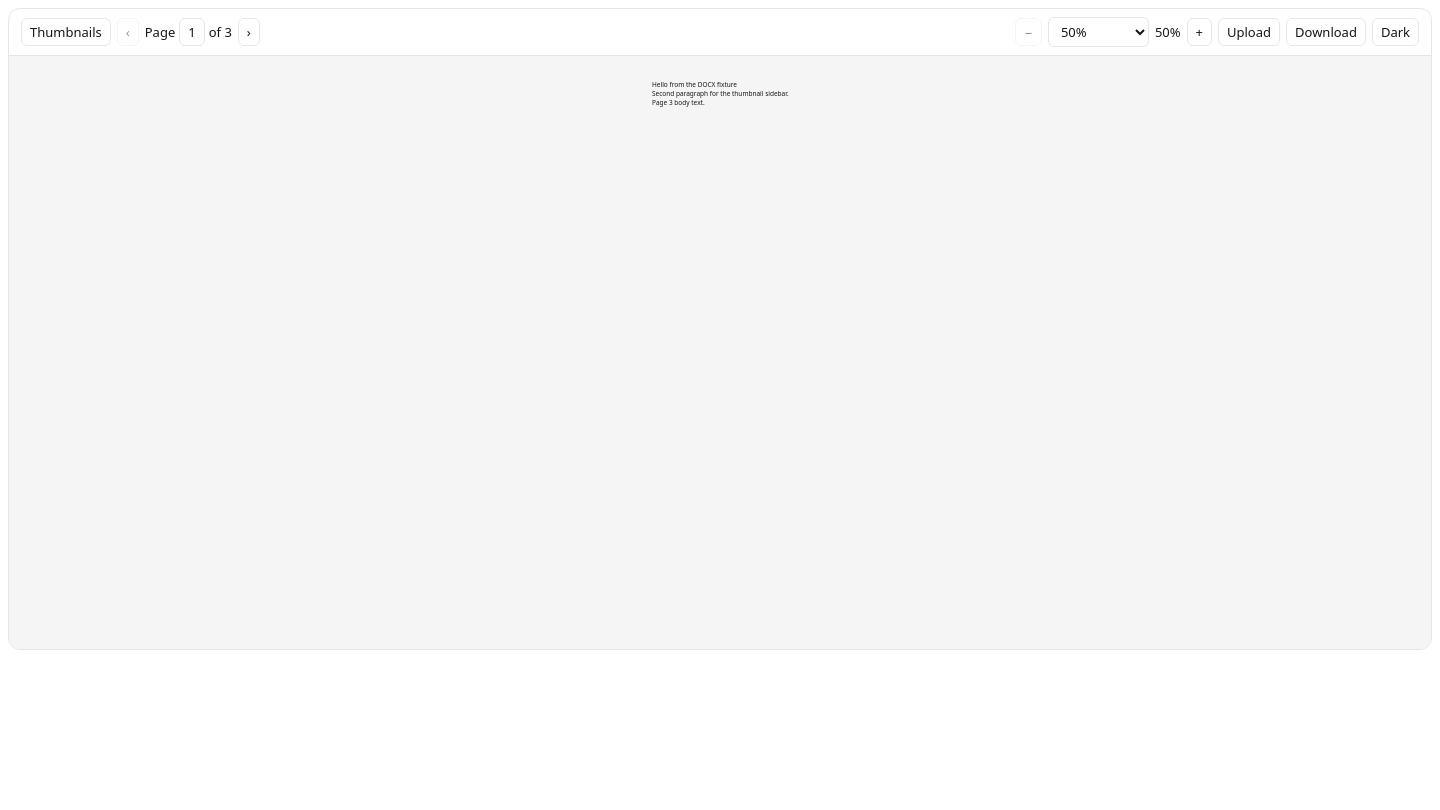
Test: DocxViewer › selects a page from the sidebar and marks it active
Step 1. Click the button with aria-label "Toggle thumbnails" → (66, 32), box [21,18,111,46]
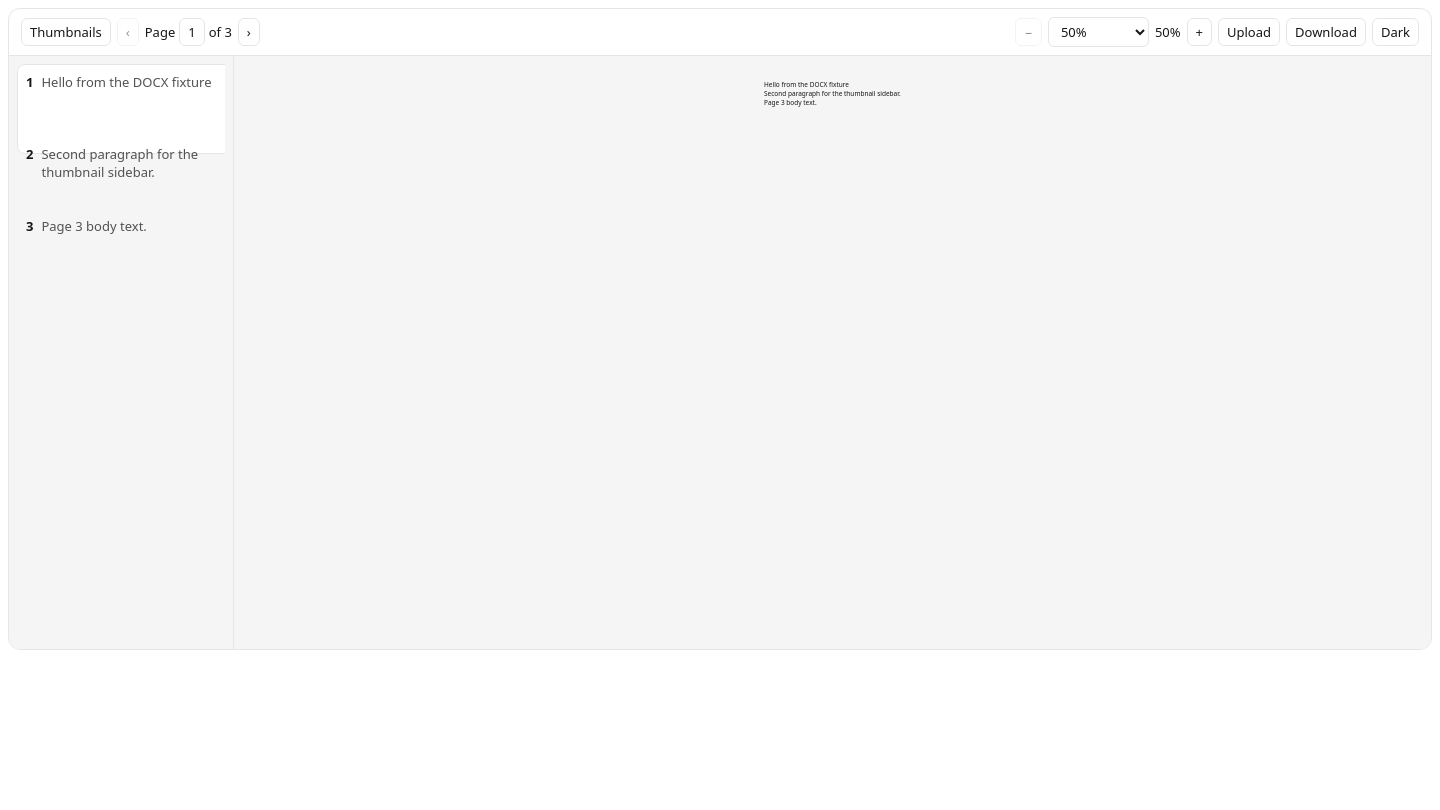
Step 2. Click the option with aria-label "Page 2" → (112, 163), box [26,145,198,181]
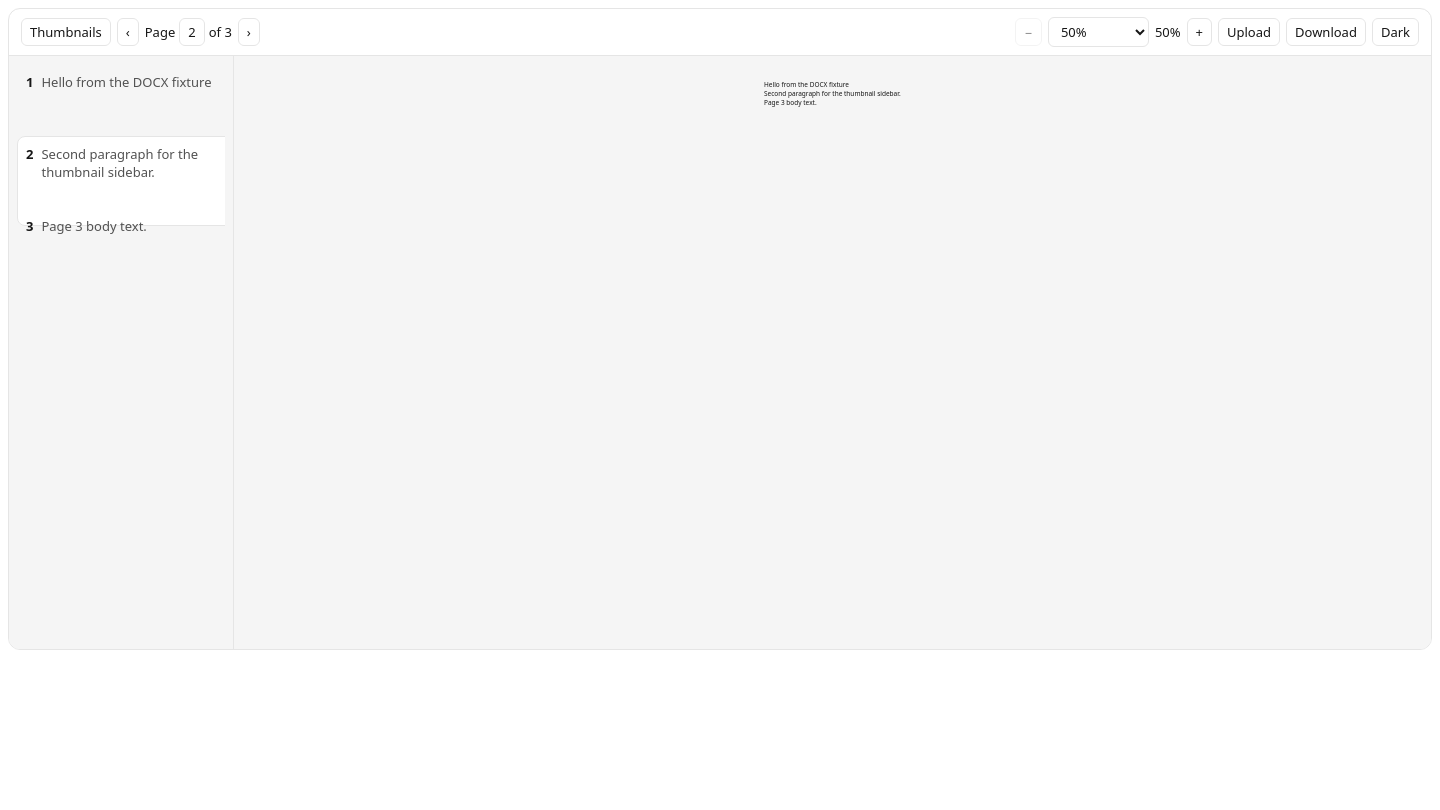
Now the element with test id "docx-page-indicator" reads "Page 2 of 3", box [145,18,232,46]
